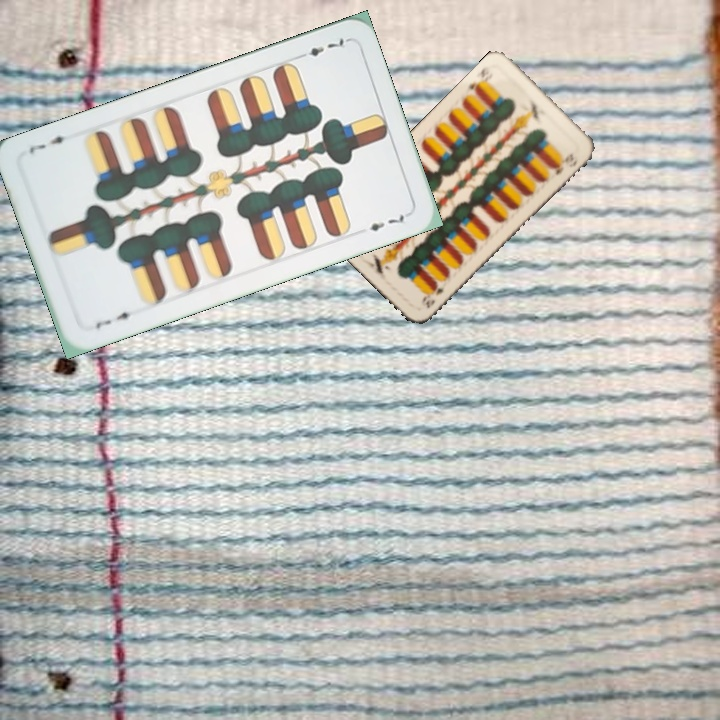E10: (464, 61, 494, 98), (417, 280, 449, 311)
E7: (293, 34, 350, 62), (91, 307, 139, 332)
